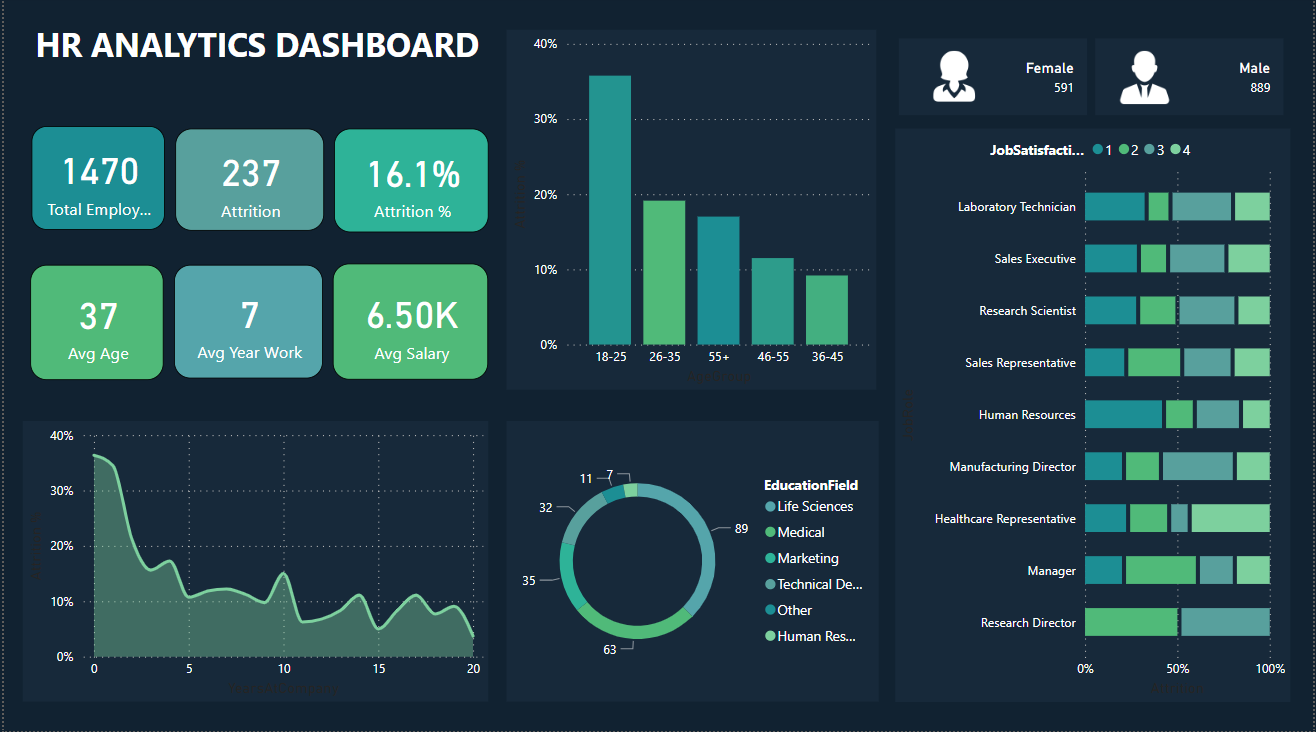

Layout of this report page (visuals, bound fields, positions):
{"tool":"powerbi","page":{"name":"Overview","canvas":[1280,720],"ordinal":0},"visuals":[{"type":"advancedSlicerVisual","fields":{"Values":["HR_Analytics.Gender"]},"box":[870.4,37,387,85.1],"z":0},{"type":"image","box":[1083.1,49.3,64.5,61.7],"z":1000},{"type":"image","box":[899.2,49.3,59,59],"z":2000},{"type":"card","fields":{"Values":["_Measures.Attrition %"]},"box":[322.7,129.6,151.6,101.5],"z":3000},{"type":"card","fields":{"Values":["_Measures.Attrition"]},"box":[167.4,129,145.5,100.2],"z":4000},{"type":"card","fields":{"Values":["_Measures.Total Employees"]},"box":[27.4,127.6,130.4,101.5],"z":5000},{"type":"card","fields":{"Values":["_Measures.Avg_Years_atCompany"]},"box":[166.2,262.8,145.5,111.2],"z":6000},{"type":"card","fields":{"Values":["Avg(HR_Analytics.Age)"]},"box":[25.7,262.8,130.8,112.5],"z":7000},{"type":"clusteredColumnChart","fields":{"Category":["HR_Analytics.AgeGroup"],"Y":["_Measures.Attrition %"]},"box":[491.4,33.3,361.7,351.9],"z":8000},{"type":"donutChart","fields":{"Y":["_Measures.Attrition"],"Category":["HR_Analytics.EducationField"]},"box":[491.3,415.8,363.6,274.4],"z":9000},{"type":"hundredPercentStackedBarChart","fields":{"Category":["HR_Analytics.JobRole"],"Y":["_Measures.Attrition"],"Series":["HR_Analytics.JobSatisfaction"]},"box":[871.6,129.6,386.4,560.5],"z":10000},{"type":"card","fields":{"Values":["Avg(HR_Analytics.MonthlyIncome)"]},"box":[321.1,262.1,152.3,113.9],"z":11000},{"type":"stackedAreaChart","fields":{"Y":["_Measures.Attrition %"],"Category":["HR_Analytics.YearsAtCompany"]},"box":[17.8,415.8,455.6,274.4],"z":12000},{"type":"textbox","box":[25.9,21,461.7,59.3],"z":13000}]}

Visuals, with their boxes in screenshot pixels (x1, y1, x2, y2), scaled from the page's 1280x720 canvas onto the 1316x732 screenshot:
advancedSlicerVisual - HR_Analytics.Gender: (left=895, top=38, right=1293, bottom=124)
image: (left=1114, top=50, right=1180, bottom=113)
image: (left=924, top=50, right=985, bottom=110)
card - _Measures.Attrition %: (left=332, top=132, right=488, bottom=235)
card - _Measures.Attrition: (left=172, top=131, right=322, bottom=233)
card - _Measures.Total Employees: (left=28, top=130, right=162, bottom=233)
card - _Measures.Avg_Years_atCompany: (left=171, top=267, right=320, bottom=380)
card - Avg(HR_Analytics.Age): (left=26, top=267, right=161, bottom=382)
clusteredColumnChart - HR_Analytics.AgeGroup x _Measures.Attrition %: (left=505, top=34, right=877, bottom=392)
donutChart - _Measures.Attrition x HR_Analytics.EducationField: (left=505, top=423, right=879, bottom=702)
hundredPercentStackedBarChart - HR_Analytics.JobRole x _Measures.Attrition: (left=896, top=132, right=1293, bottom=702)
card - Avg(HR_Analytics.MonthlyIncome): (left=330, top=266, right=487, bottom=382)
stackedAreaChart - _Measures.Attrition % x HR_Analytics.YearsAtCompany: (left=18, top=423, right=487, bottom=702)
textbox: (left=27, top=21, right=501, bottom=82)
